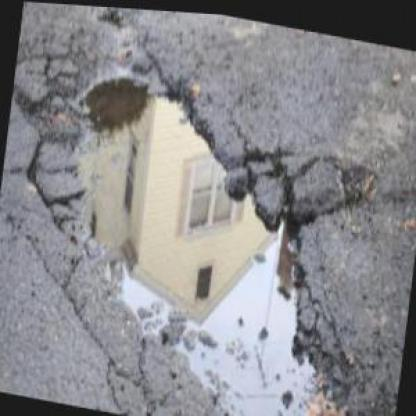pothole: (0, 32, 390, 415)
